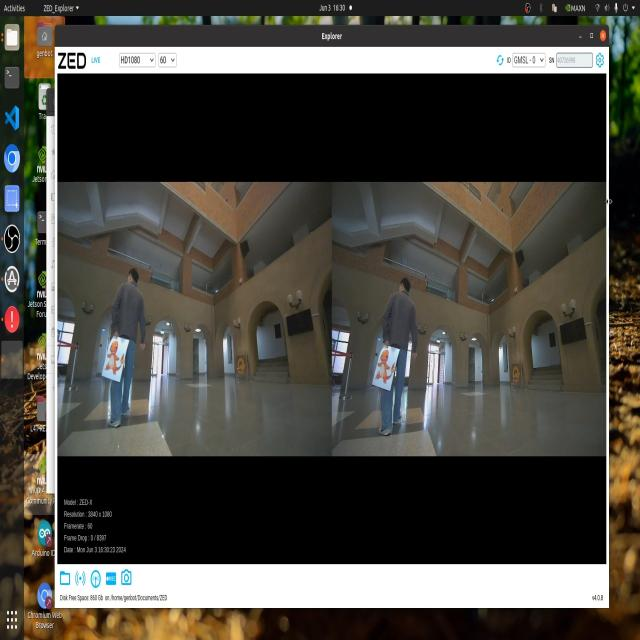red: (105, 339, 126, 380), (377, 346, 395, 384)
